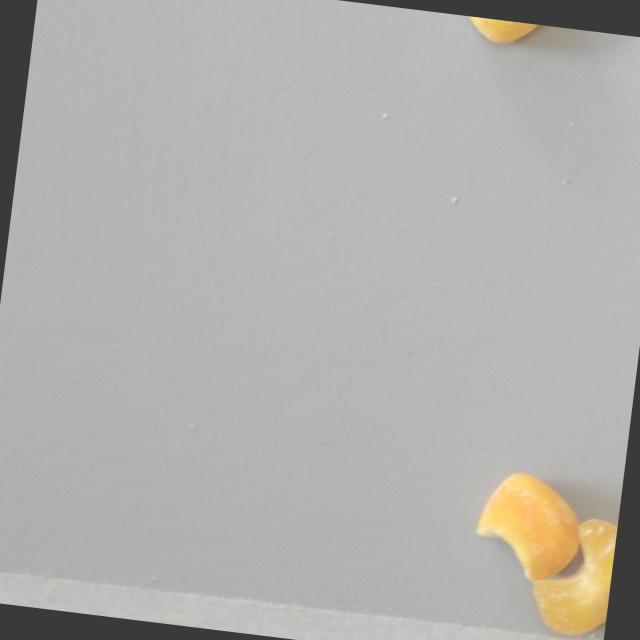pelicula: (469, 466, 589, 586), (528, 509, 618, 640), (448, 14, 569, 51)
